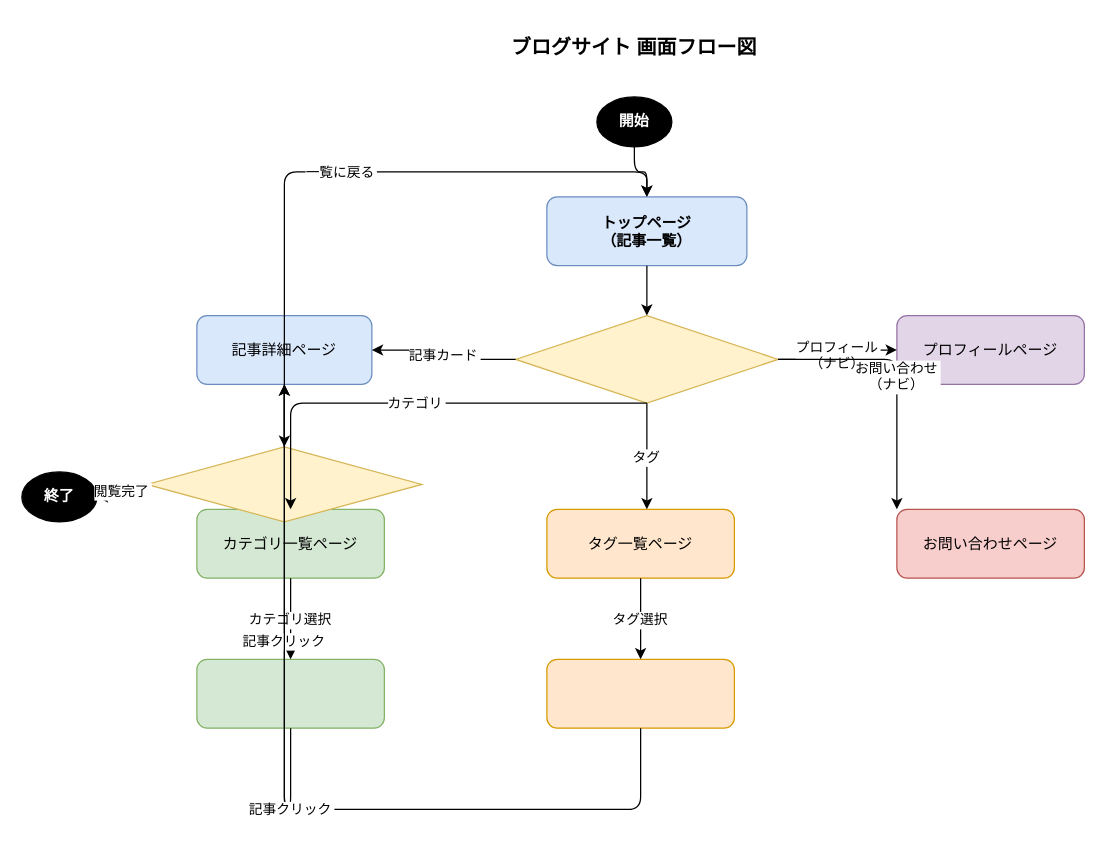
This 1106x841 diagram has some shape labels left out. The shapes that lost their labels are listed below. From the top down, each one's centre as x and y in pixels, then its label:
At point 646,358: "どこをクリック？".
At point 284,484: "次のアクション？".
At point 290,693: "カテゴリ別記事一覧".
At point 640,693: "タグ別記事一覧".
